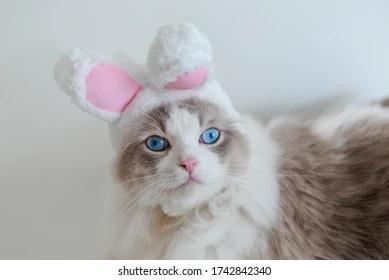ragdoll: (101, 72, 255, 229)
